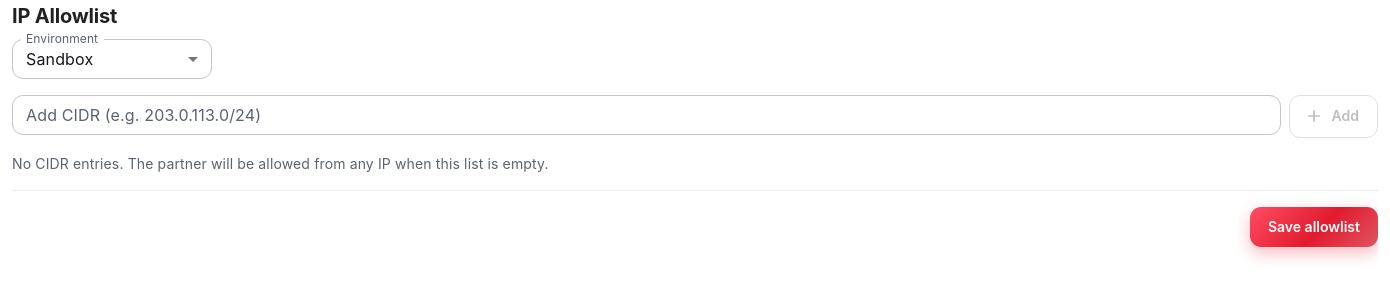
Scenario: IpAllowlistSection › removes a CIDR entry when remove button is clicked
Type "10.0.0.0/8" into the field named "cidr-input". click: (646, 115)
box: [12,95,1280,135]
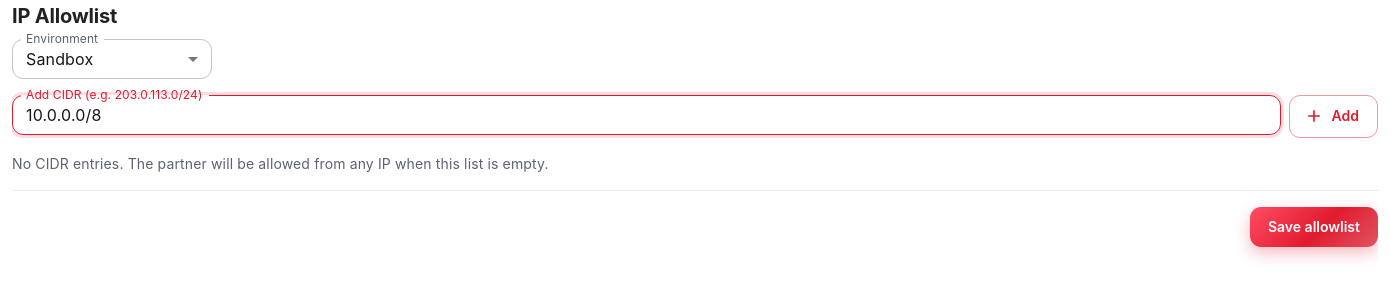
Click the button with aria-label "add-cidr". click: (1333, 116)
box: [1288,95,1378,138]
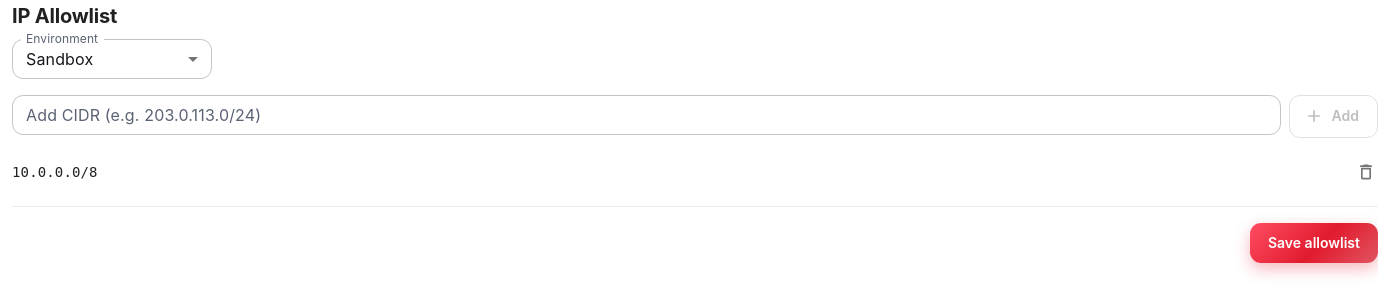
Expected: the text "10.0.0.0/8" is shown, [12,164,98,180]
Click the button named "remove-cidr-10.0.0.0/8". click: (1364, 172)
box: [1351,156,1378,186]
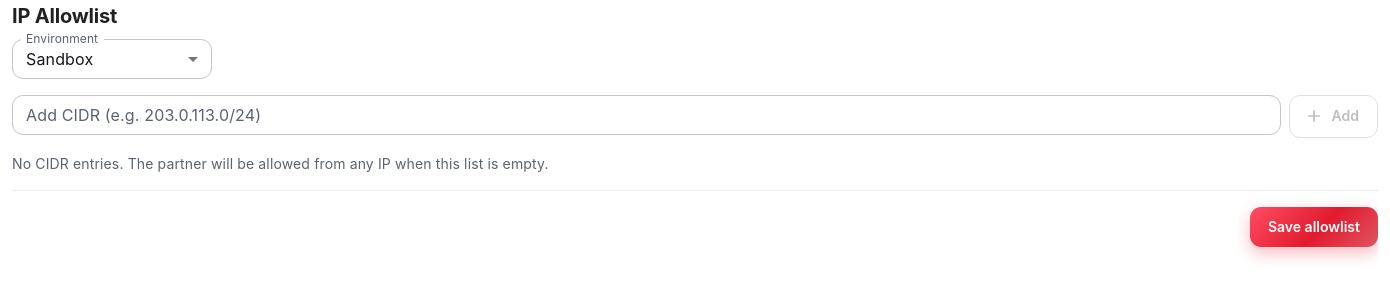
Expected: the text "10.0.0.0/8" is gone
